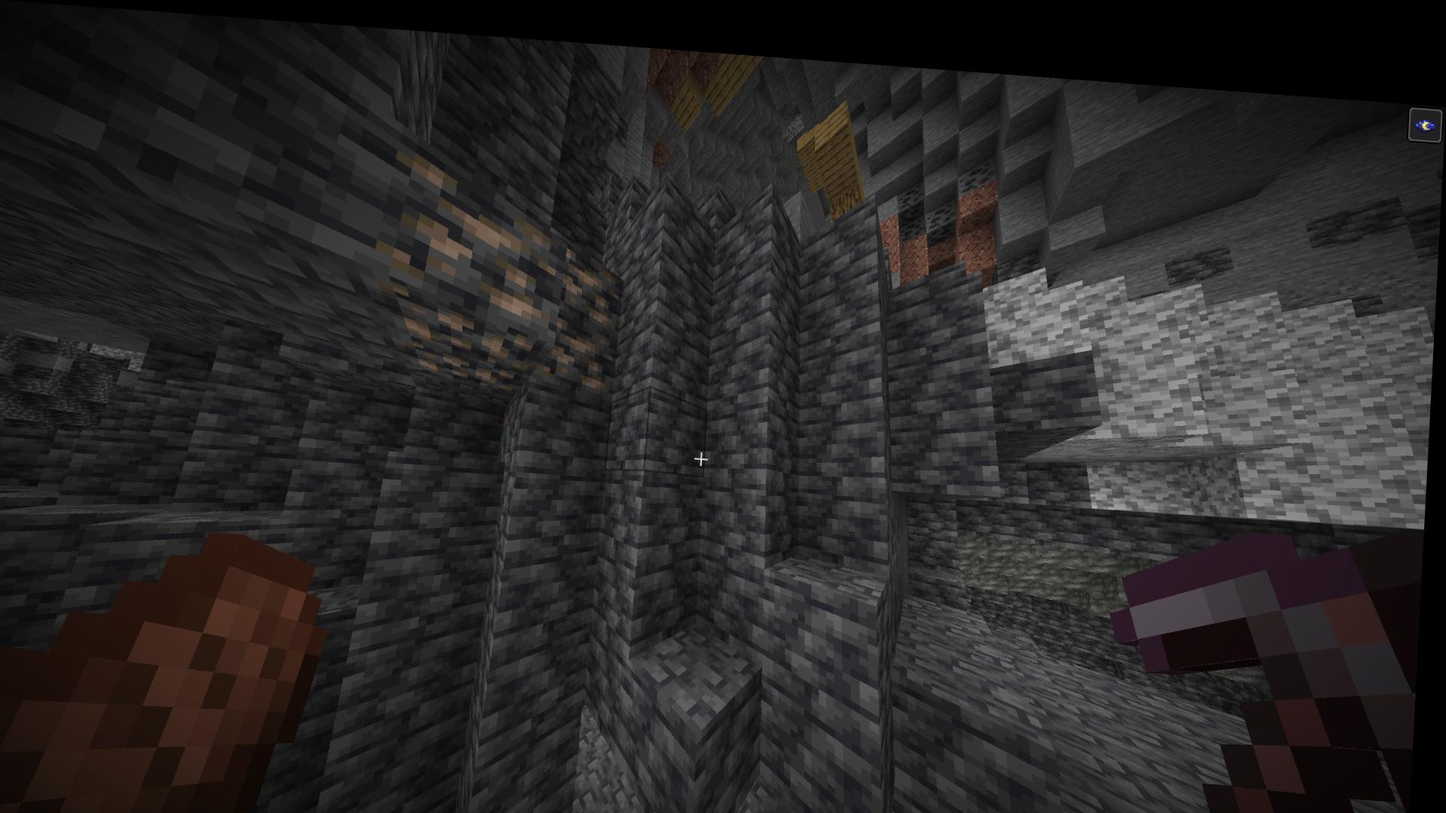iron ore: (369, 132, 574, 328), (391, 278, 547, 359), (561, 233, 634, 322), (546, 311, 623, 384), (407, 337, 529, 383)
